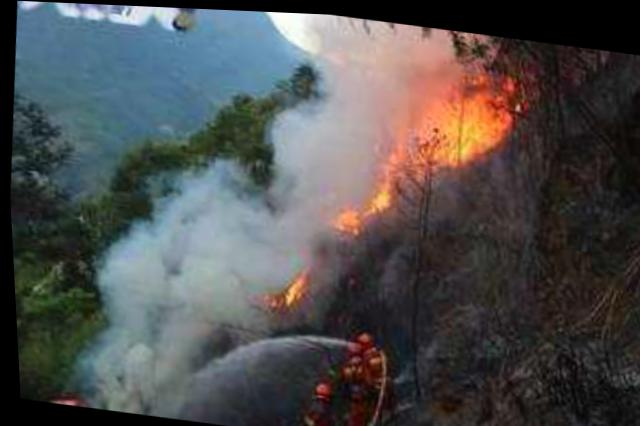fire: (370, 45, 529, 176), (321, 170, 390, 234), (256, 253, 312, 313)
